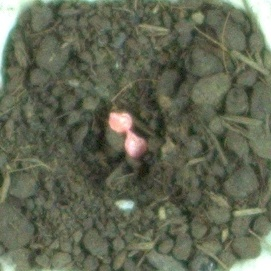chilli seed: (122, 129, 150, 160), (107, 109, 135, 132)
